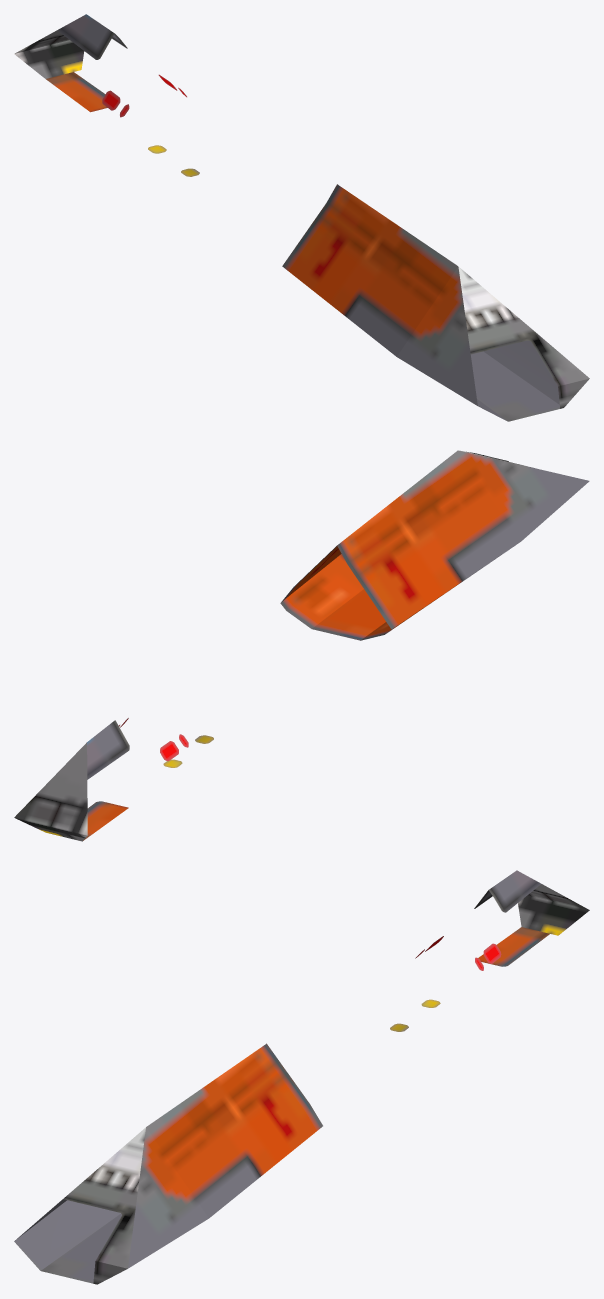
File: LOD0-UVFlip.obj
The picture shows the model from 3 angles, top to bottom: view 1: azimuth 30°, elevation 25°; view 2: azimuth 150°, elevation 25°; view 3: azimuth 330°, elevation 25°; orthographic projection.
Visible parts, largest first — view 1: hw2Shader1; view 2: hw2Shader1; view 3: hw2Shader1.
Part boxes in pixels (x1,y1,x2,y2): hw2Shader1: [14, 14, 589, 421]; hw2Shader1: [14, 450, 589, 841]; hw2Shader1: [14, 870, 589, 1284].
Bounding box in the file's own units: 0.92 × 0.6665 × 6.17.
